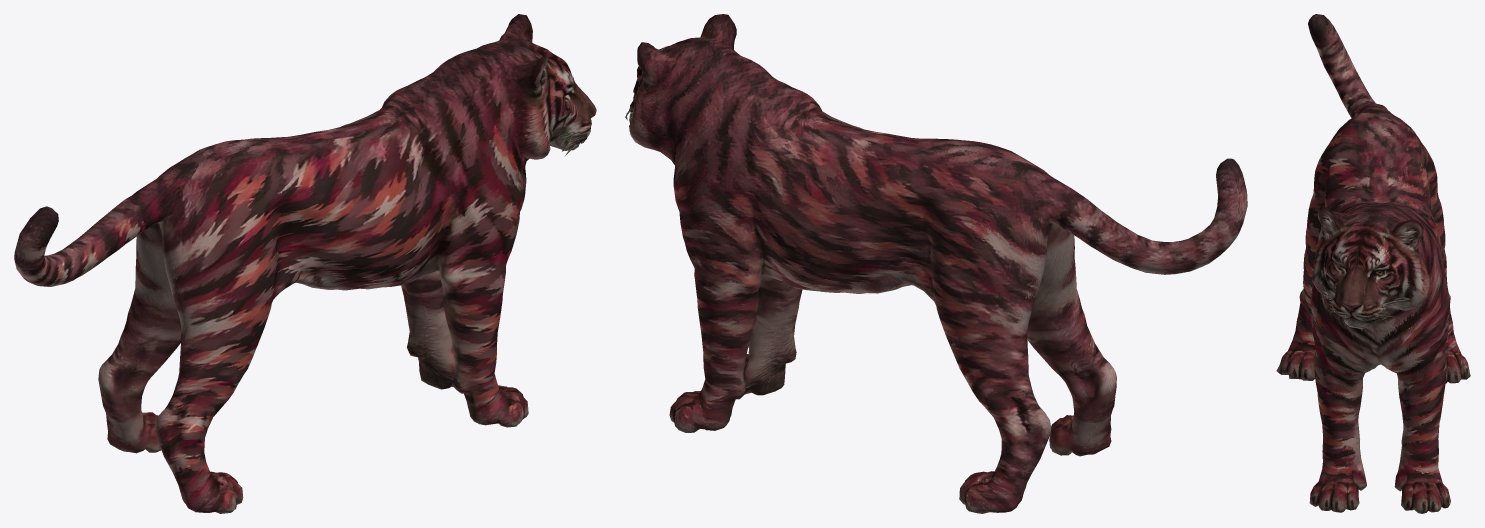
The model's file is SUNSTRETCH.glb.
3 renders of one model, left to right at view 1: azimuth 30°, elevation 25°; view 2: azimuth 150°, elevation 25°; view 3: azimuth 270°, elevation 25°, orthographic. The views are drawn at different scales.
Visible parts, largest first — view 1: tripo_node_415fb54e-d76c-4307-90d6-d0485afed45f; view 2: tripo_node_415fb54e-d76c-4307-90d6-d0485afed45f; view 3: tripo_node_415fb54e-d76c-4307-90d6-d0485afed45f.
Part boxes in pixels (<box>): tripo_node_415fb54e-d76c-4307-90d6-d0485afed45f: <box>14,14,596,513</box>; tripo_node_415fb54e-d76c-4307-90d6-d0485afed45f: <box>625,14,1247,513</box>; tripo_node_415fb54e-d76c-4307-90d6-d0485afed45f: <box>1276,14,1470,513</box>.
Bounding box in the file's own units: 1.73 × 1 × 0.5601.
Materials: 1 (1 with a texture image).
